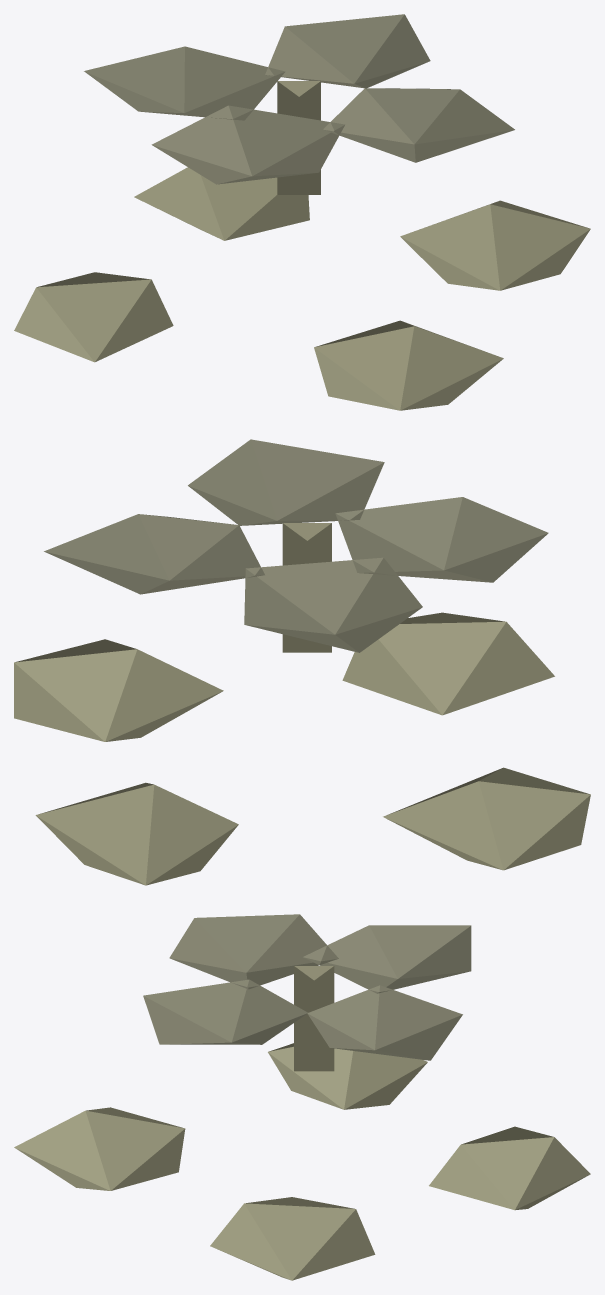
The model's file is cao.dixue@flowering__winter.glb.
3 views of the same model, one above another, from view 1: azimuth 30°, elevation 25°; view 2: azimuth 150°, elevation 25°; view 3: azimuth 270°, elevation 25° (orthographic). The views are drawn at different scales.
Parts seen in each view (by area): view 1: cao.dixue@flowering__winter; view 2: cao.dixue@flowering__winter; view 3: cao.dixue@flowering__winter.
Boxes of the visible parts, x1=… form: cao.dixue@flowering__winter: x1=14, y1=14, x2=590, y2=410; cao.dixue@flowering__winter: x1=14, y1=439, x2=590, y2=885; cao.dixue@flowering__winter: x1=14, y1=914, x2=590, y2=1280.
Bounding box in the file's own units: 0.8892 × 0.4032 × 0.8919.
